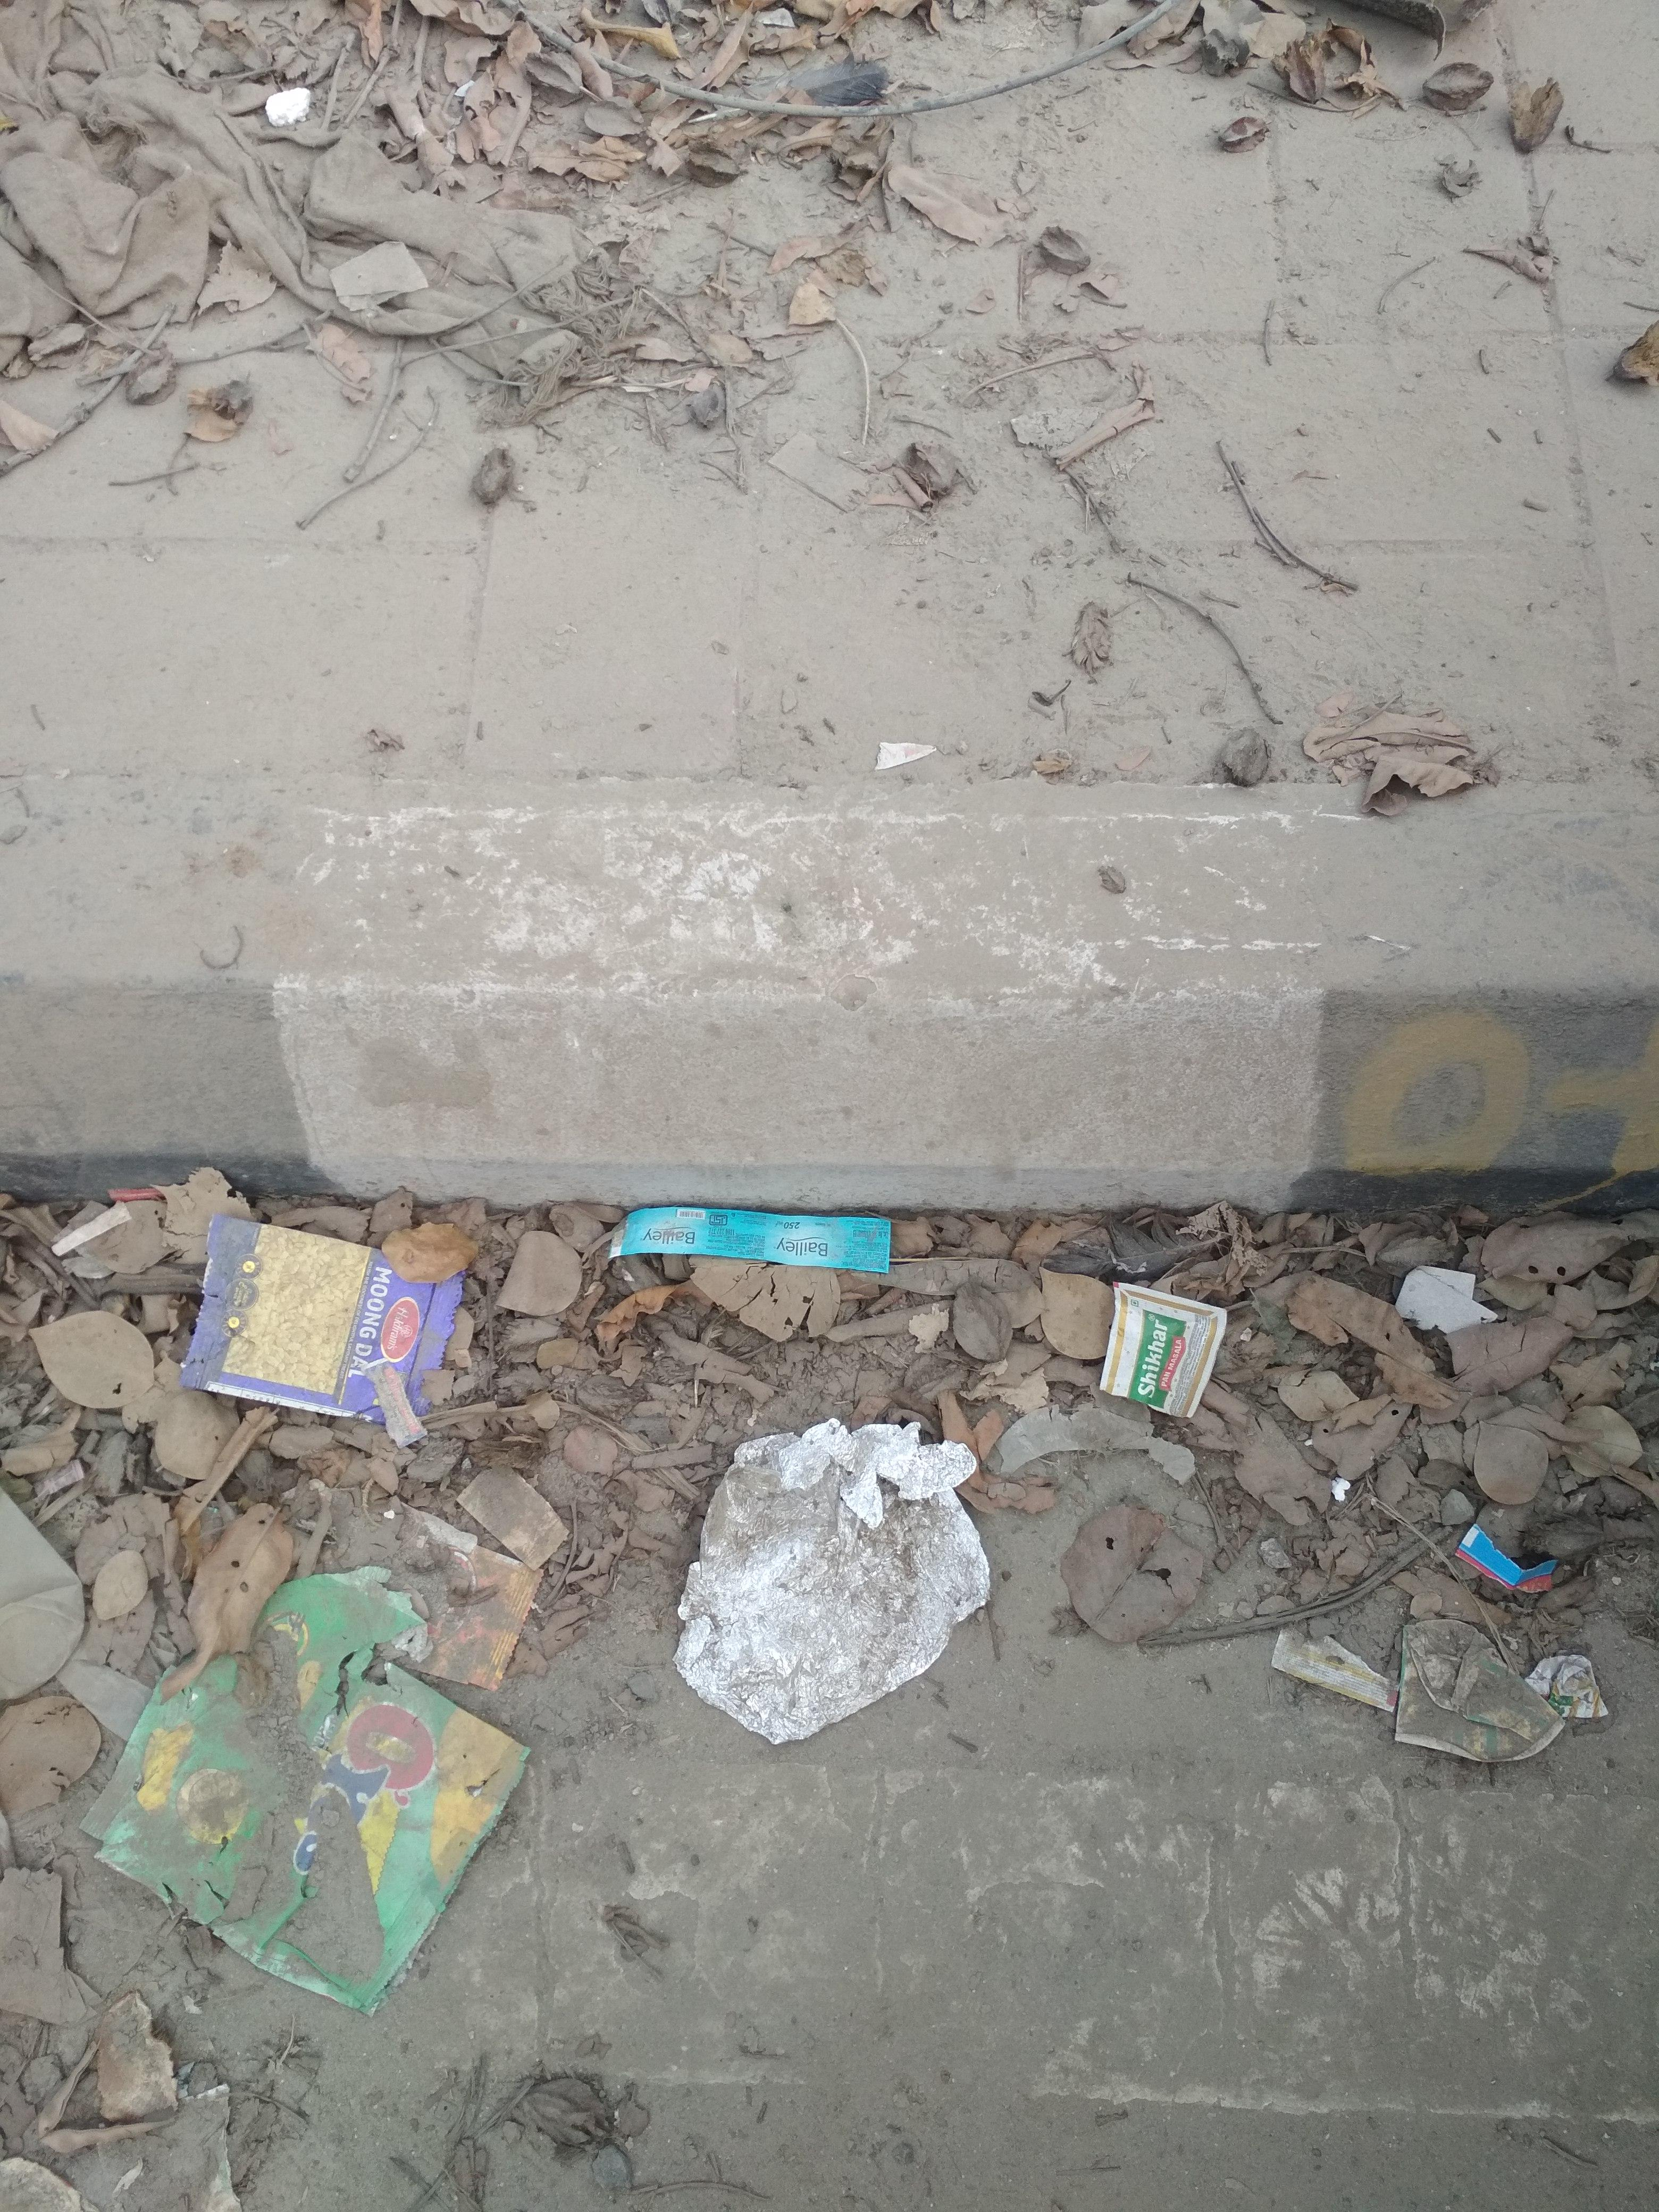organic: (78, 1167, 1621, 1998)
